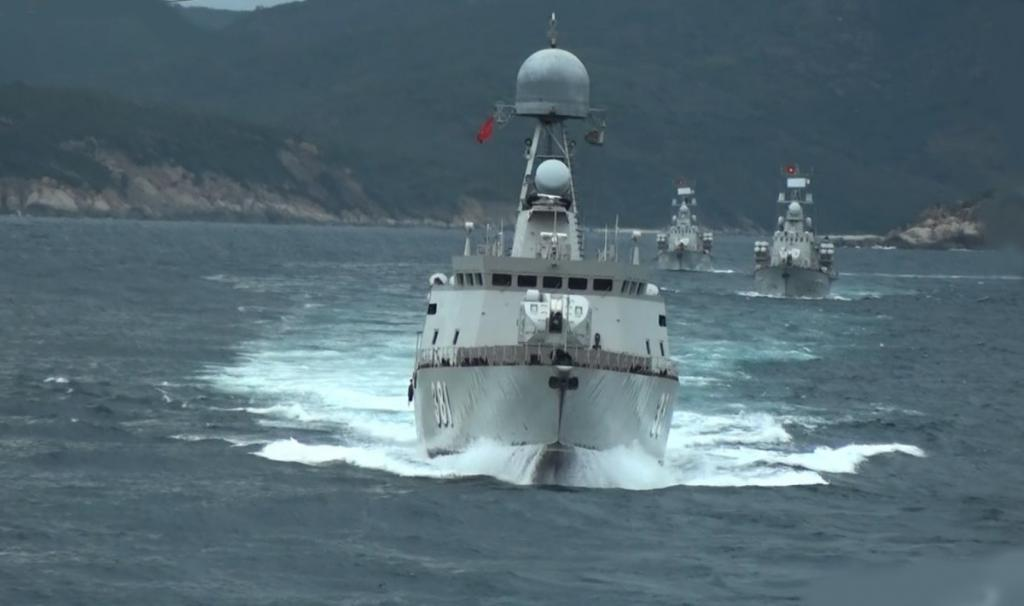Warship: (404, 29, 684, 495), (747, 167, 849, 303), (654, 180, 724, 276)
